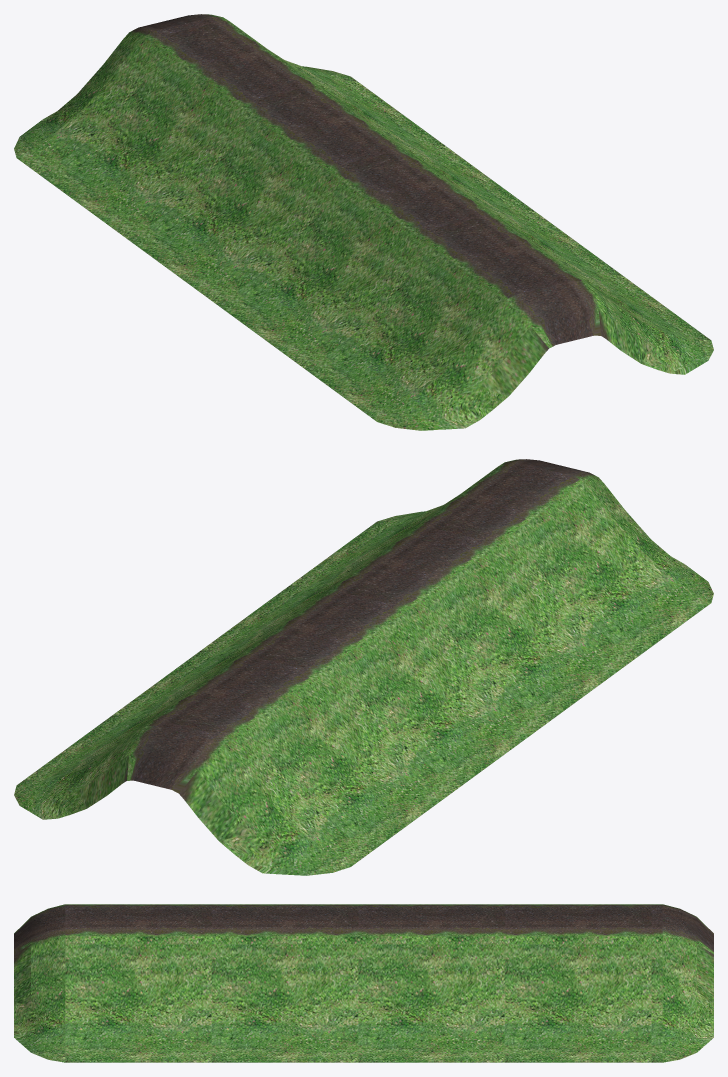
The model's file is 1nasip_70_TSM.gltf.
3 views of the same model, one above another, from view 1: azimuth 30°, elevation 25°; view 2: azimuth 150°, elevation 25°; view 3: azimuth 270°, elevation 25° (orthographic). The views are drawn at different scales.
Bounding box in the file's own units: 37.47 × 10.02 × 82.
Materials: 1 (1 with a texture image).
